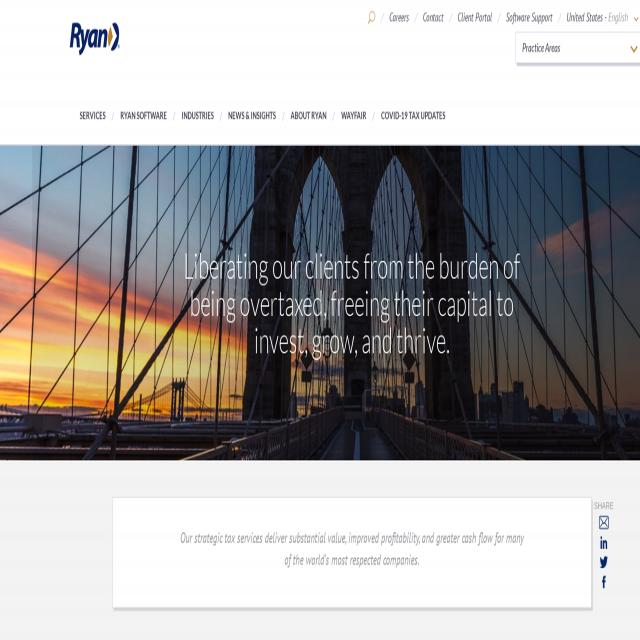button: (381, 108, 445, 146), (228, 108, 276, 146), (121, 108, 167, 146), (70, 22, 120, 55), (291, 108, 326, 146), (182, 108, 214, 146), (80, 108, 106, 146), (342, 108, 366, 146), (362, 4, 377, 28), (597, 512, 611, 532), (597, 572, 611, 592), (597, 534, 611, 552), (597, 554, 611, 571)
field: (516, 34, 640, 65)
